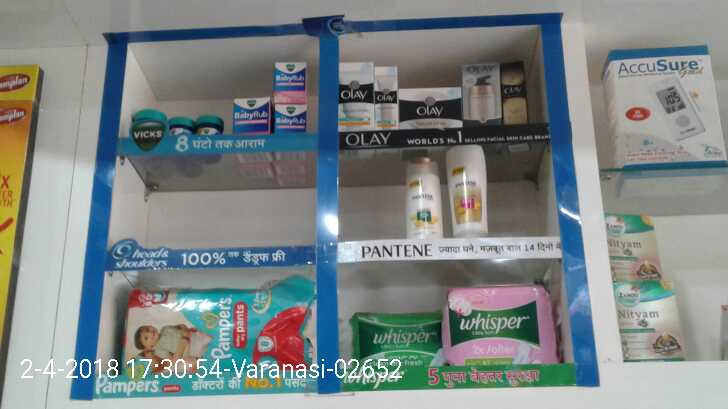vicks: (237, 61, 308, 135), (135, 112, 225, 138)
